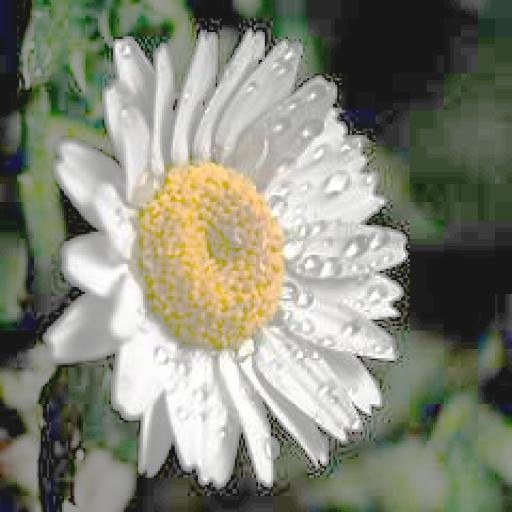daisy: (68, 44, 382, 473)
